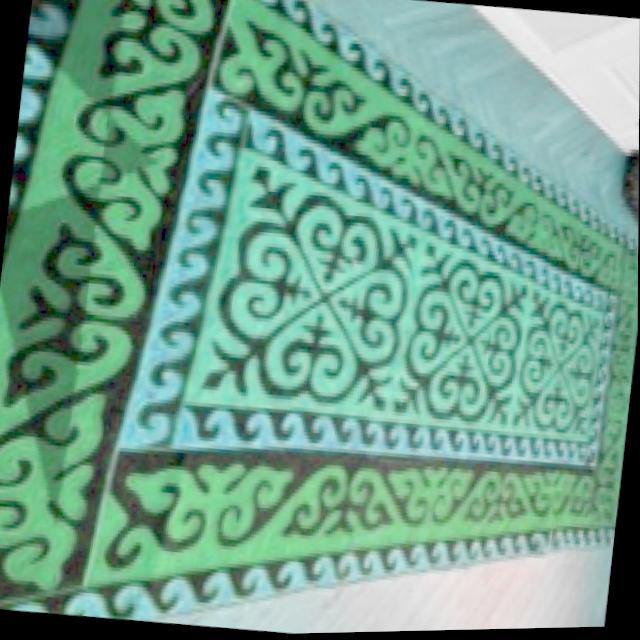Unity: (193, 155, 421, 416), (389, 237, 527, 431), (510, 285, 601, 440)
